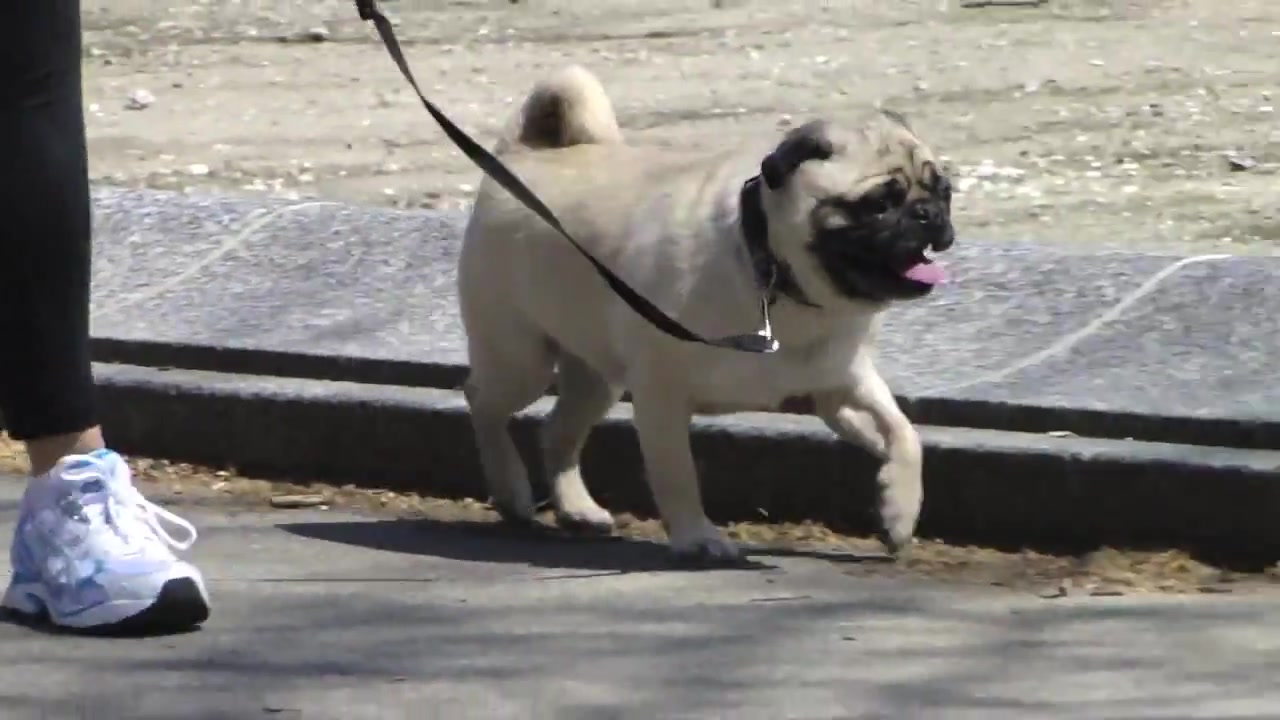dog: (460, 63, 956, 570)
